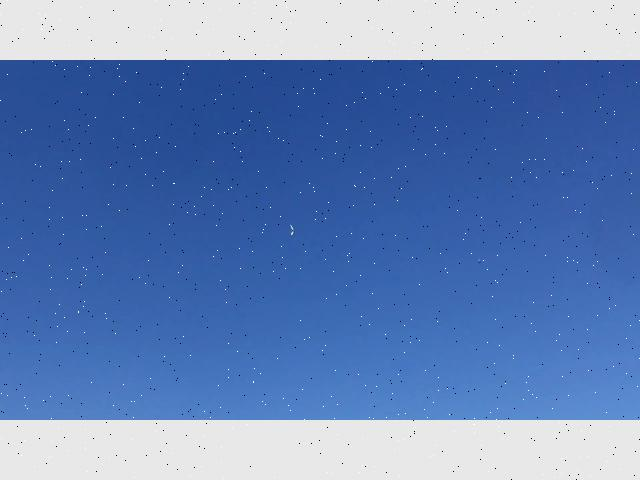Anti-Drone: (282, 218, 308, 244)
